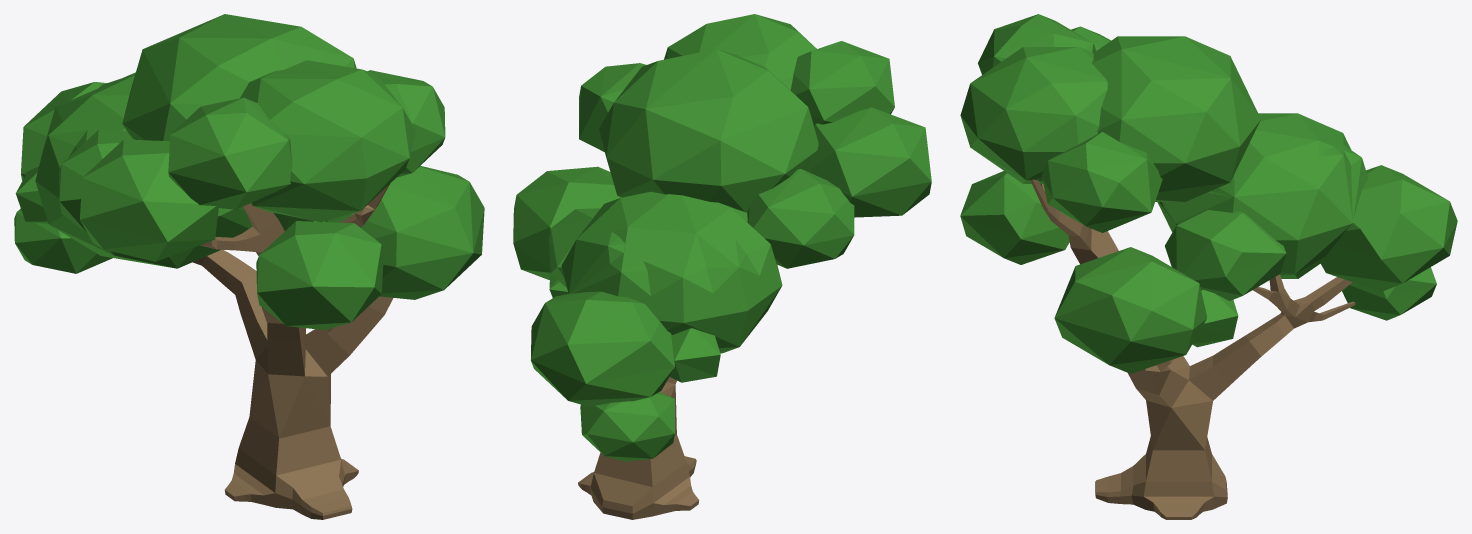
The model's file is LoireTree2.glb.
The picture shows the model from 3 angles, left to right: view 1: azimuth 30°, elevation 25°; view 2: azimuth 150°, elevation 25°; view 3: azimuth 270°, elevation 25°; orthographic projection. The views are drawn at different scales.
Parts seen in each view (by area): view 1: Icosphere.015, Cone; view 2: Icosphere.015, Cone; view 3: Icosphere.015, Cone.
Boxes of the visible parts, x1,y1,x2,y2 form: Icosphere.015: (14, 14, 484, 329); Cone: (192, 184, 393, 519); Icosphere.015: (513, 14, 931, 461); Cone: (578, 377, 699, 519); Icosphere.015: (960, 14, 1457, 373); Cone: (1031, 179, 1355, 519).
Size of the model in its own units: 6.04 by 6.47 by 6.85.
